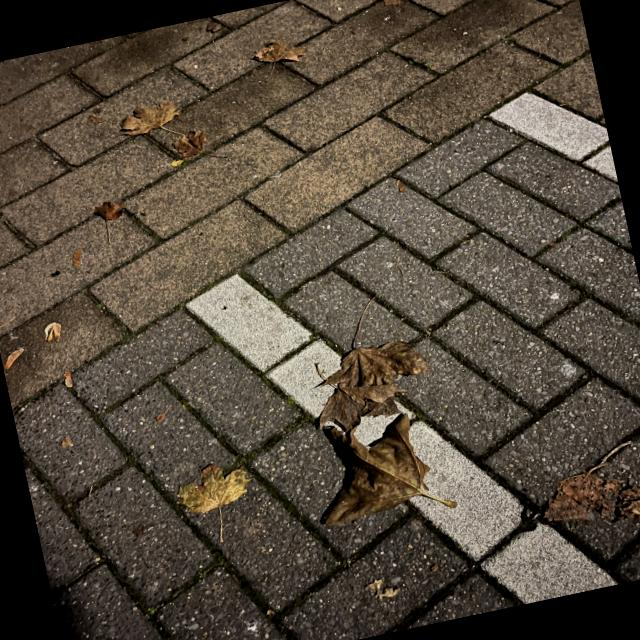leaves: (282, 321, 449, 532), (509, 438, 640, 544), (175, 451, 258, 535), (108, 86, 187, 149), (0, 309, 74, 369), (157, 128, 209, 172), (358, 0, 477, 19), (259, 34, 301, 72)
pavement: (0, 0, 639, 639)
